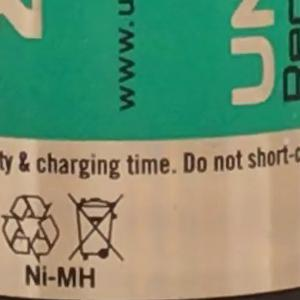NI-MH: (16, 257, 105, 296)
